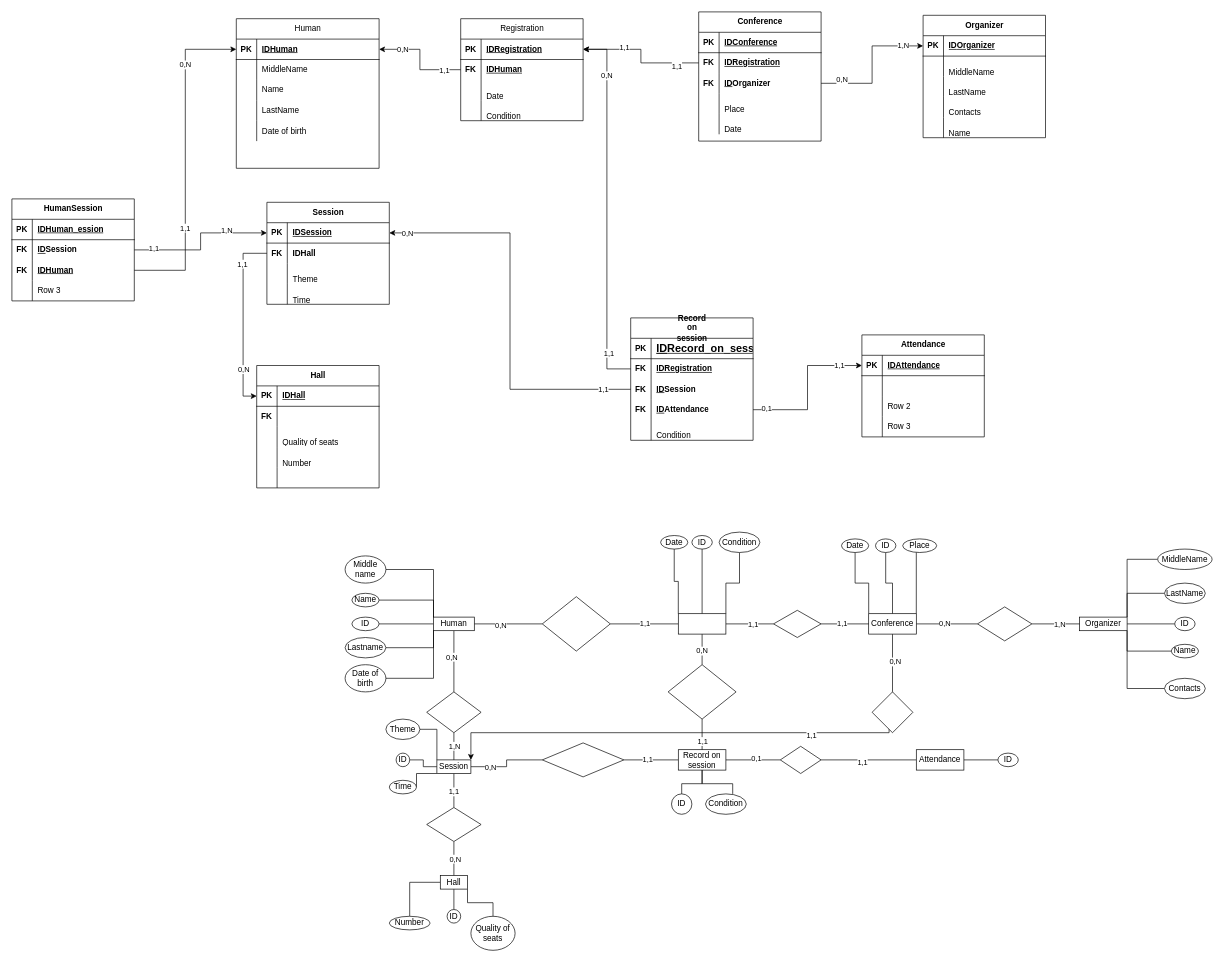
Image size: 1224x962. Some labels were removed from this diagram. Each missing label, with the centre of its shape:
"Concern" belongs at (x=797, y=624).
"Conducts registration" belongs at (x=576, y=623).
"Contains" belongs at (x=892, y=712).
"Is passing" belongs at (x=453, y=824).
"It has" belongs at (x=800, y=760).
"It has a record." belongs at (x=583, y=759).
"it has record on session" belongs at (x=701, y=691).
"Organizes" belongs at (x=1004, y=623).
"Performs at" belongs at (x=453, y=712).
"Registraton" belongs at (x=702, y=623).
